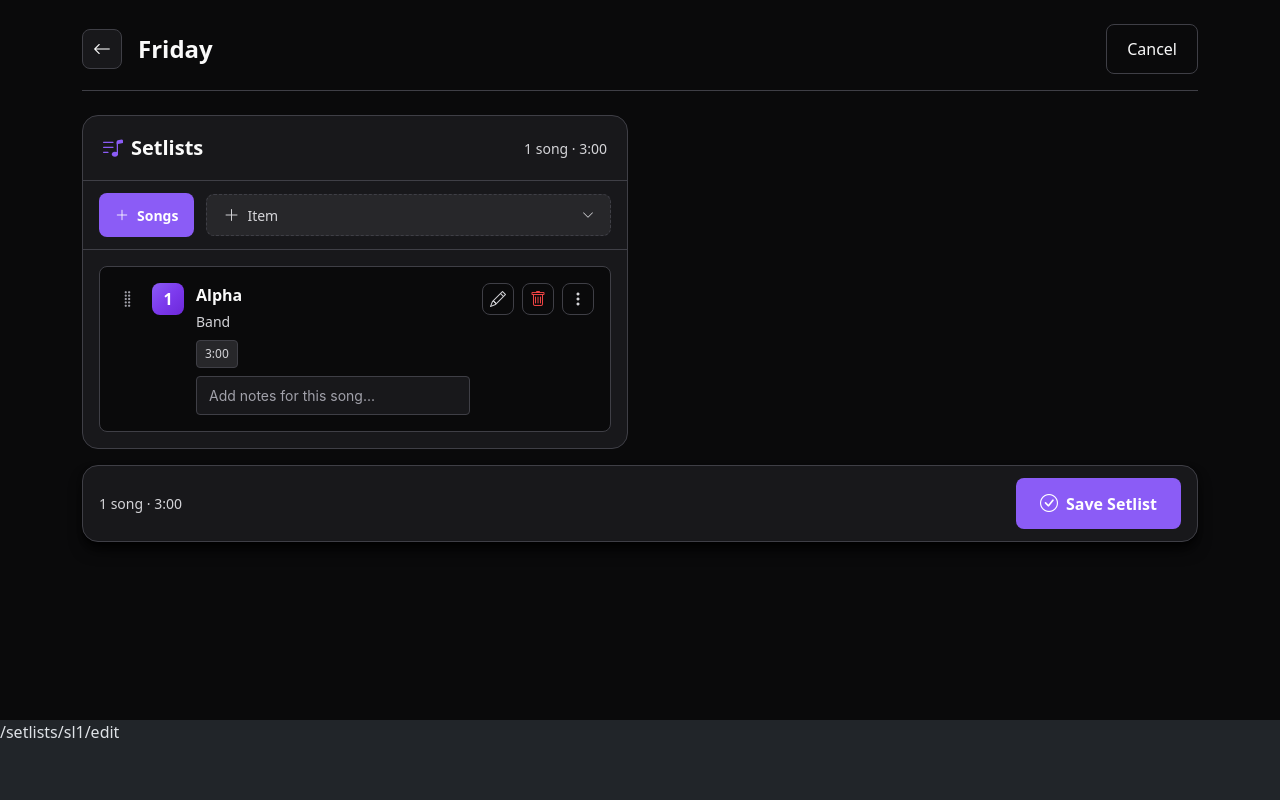
Test: SetlistEditor with the song picker › narrow: Escape closes the picker without adding
The width and height of the screenshot is (1280, 800).
Step 1. Click the button with aria-label "Add songs" → (147, 215), box 99,193 -> 194,237
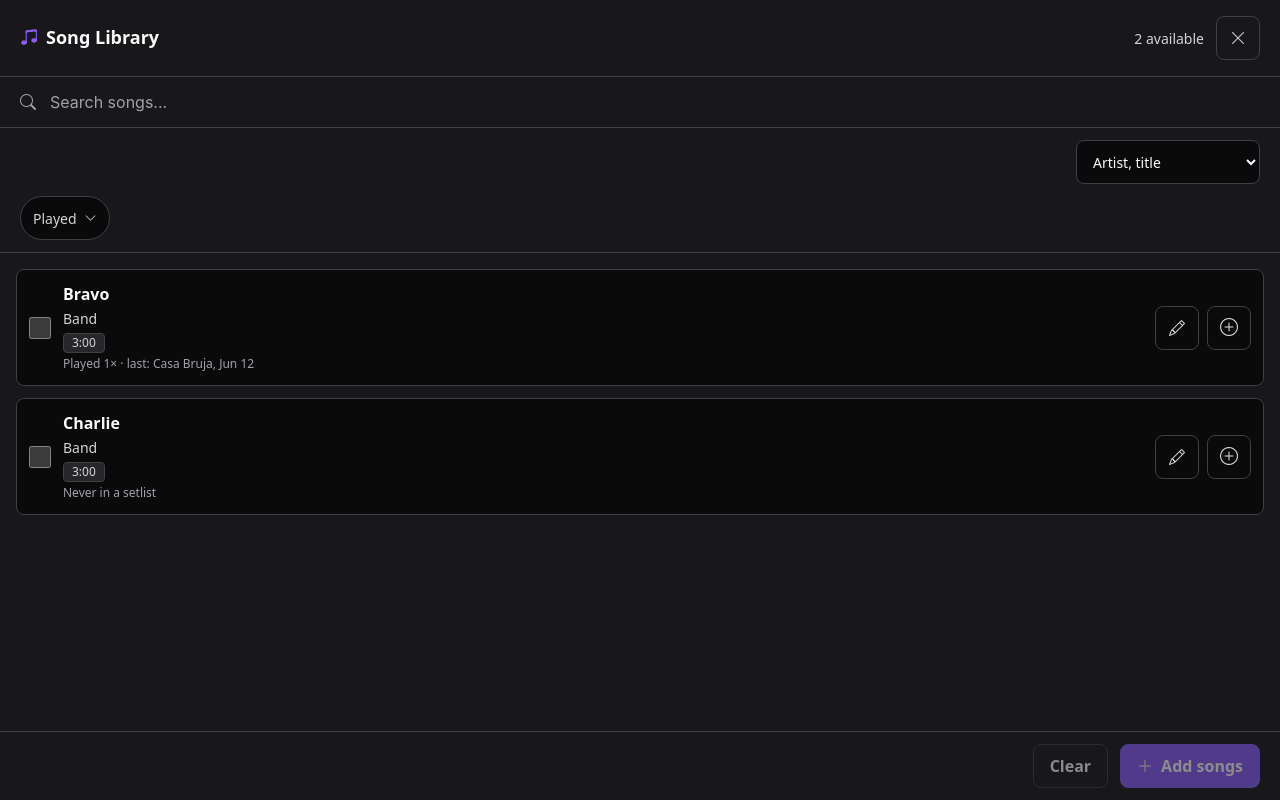
Step 2. Press Escape
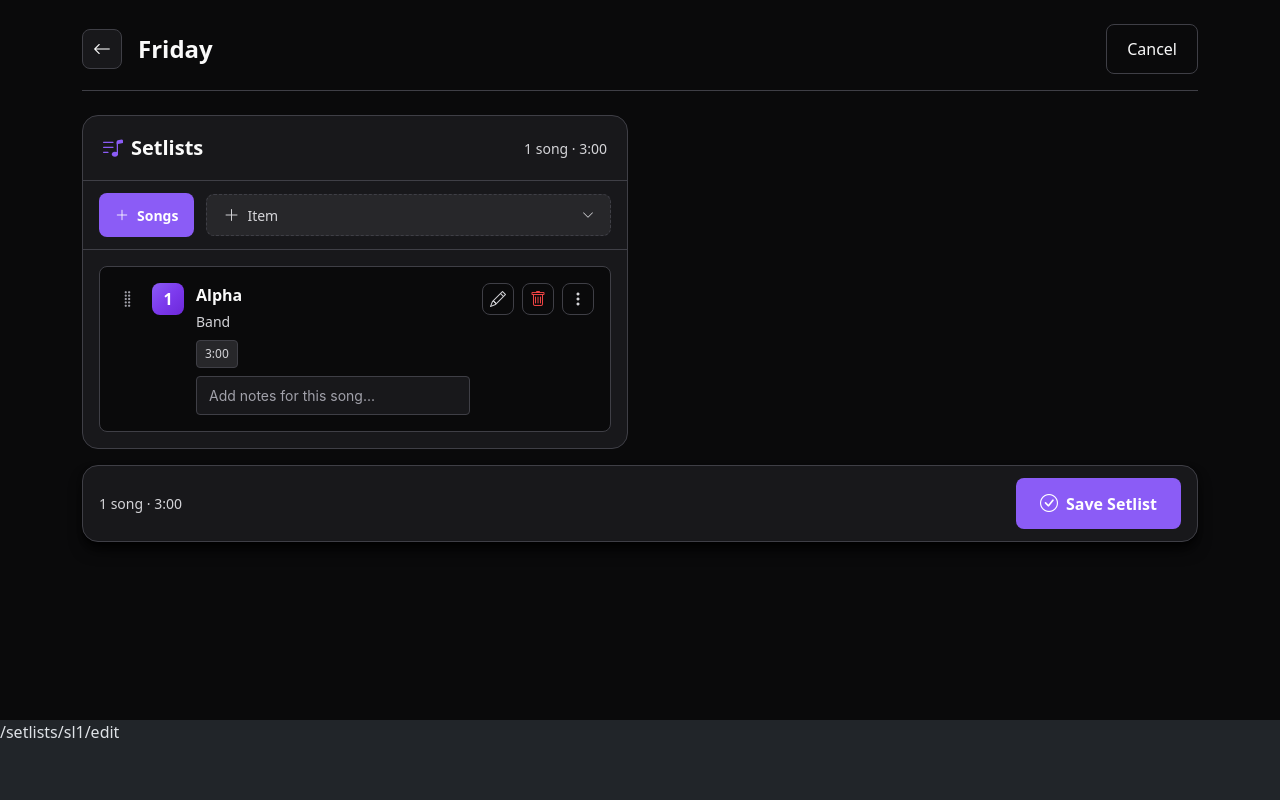
Now the dialog is gone
